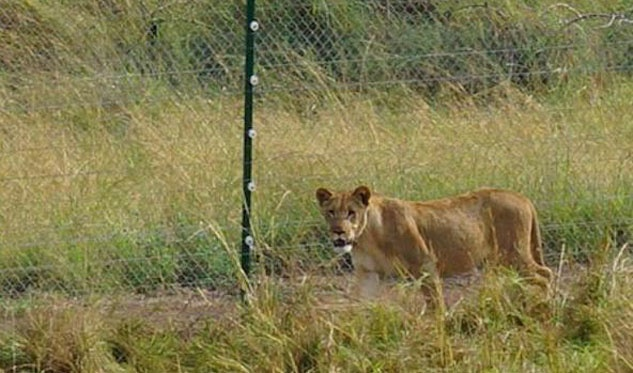lion: (312, 179, 563, 332)
